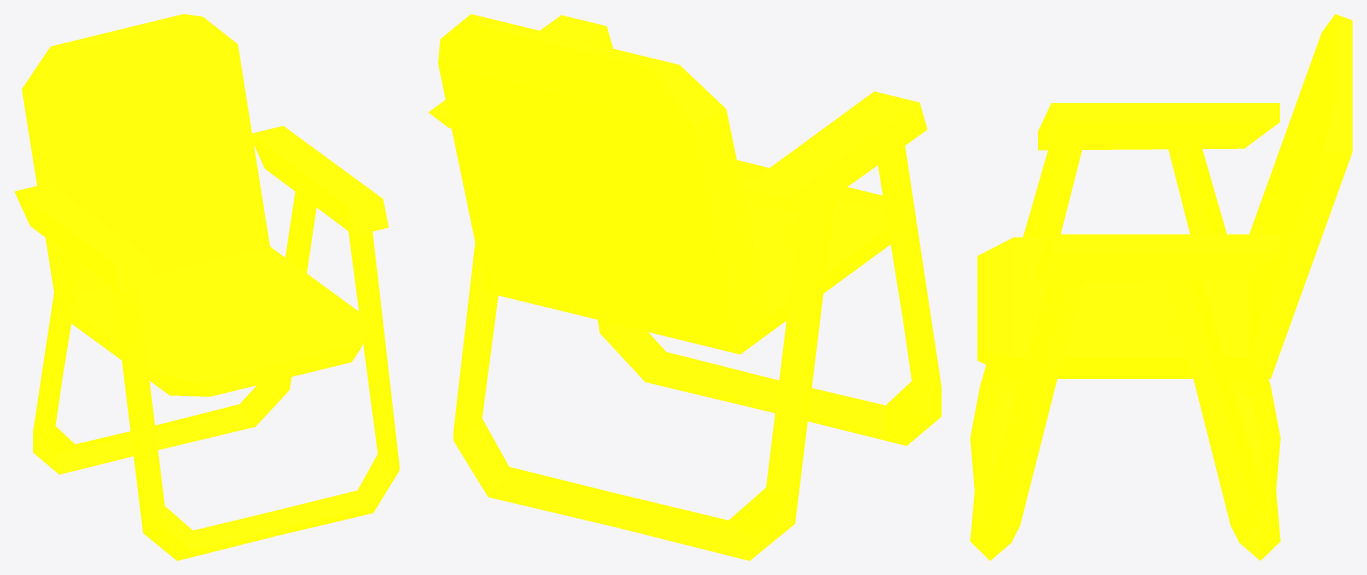
Rendered from chair-folding.glb.
3 renders of one model, left to right at view 1: azimuth 30°, elevation 25°; view 2: azimuth 150°, elevation 25°; view 3: azimuth 270°, elevation 25°, orthographic. The views are drawn at different scales.
Parts seen in each view (by area): view 1: chair-folding; view 2: chair-folding; view 3: chair-folding.
Boxes of the visible parts, box(x1,y1,x2,y2) form: chair-folding: box(14, 14, 399, 560); chair-folding: box(428, 14, 941, 560); chair-folding: box(970, 14, 1352, 560).
Size of the model in its own units: 0.6298 by 0.8754 by 0.677.
1 material, 1 textured.
